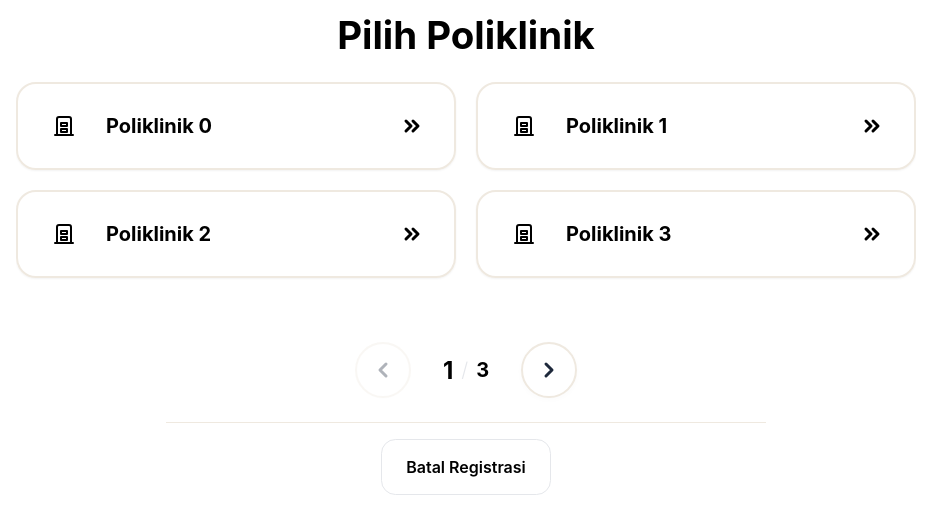
WalkinServiceStep › navigates to doctor list and paginates it
Note: Choose first polyclinic
Click the button with class "radio-card" showing "Poliklinik 0": click(159, 126) x1=16 y1=82 x2=456 y2=170
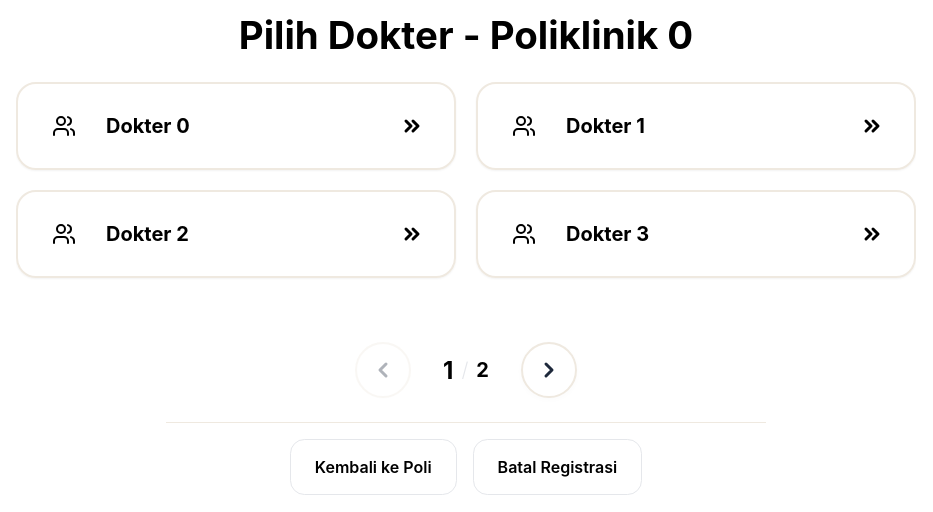
expect the text "Pilih Dokter - Poliklinik 0" is shown: met, box x1=239 y1=12 x2=693 y2=58
expect the button with class "radio-card" reads "Dokter 0": met, box x1=16 y1=82 x2=456 y2=170
expect the element with test id "kiosk-pagination" reads "1 / 2": met, box x1=355 y1=342 x2=577 y2=398
Note: Click next page
Click the button with class "next-btn": click(549, 370) x1=521 y1=342 x2=577 y2=398
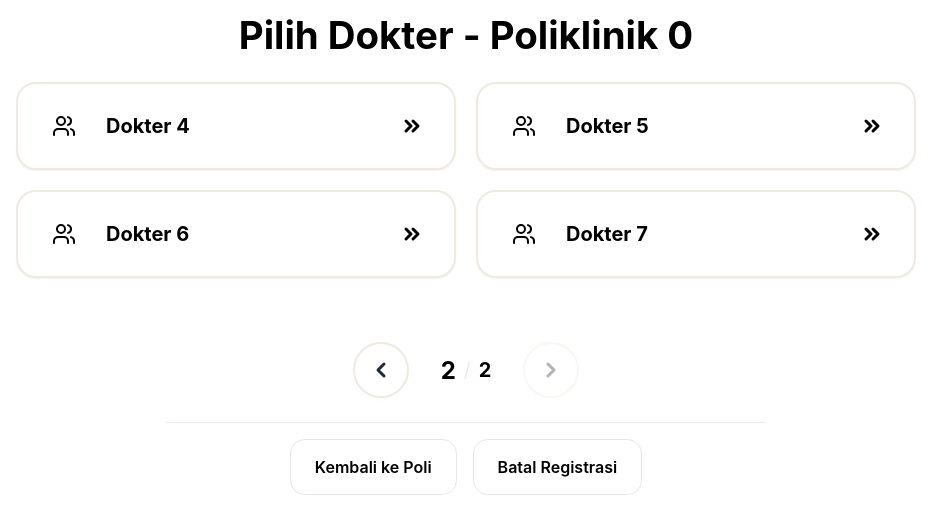
expect the number of buttons with class "radio-card" is 4: met, box x1=16 y1=82 x2=456 y2=170; x1=476 y1=82 x2=916 y2=170; x1=16 y1=190 x2=456 y2=278; x1=476 y1=190 x2=916 y2=278
expect the button with class "radio-card" reads "Dokter 4": met, box x1=16 y1=82 x2=456 y2=170
expect the element with test id "kiosk-pagination" reads "2 / 2": met, box x1=353 y1=342 x2=579 y2=398
Note: Click back to clinic
Click the button with class "secondary-btn" showing "Kembali ke Poli": click(373, 467) x1=290 y1=439 x2=457 y2=495
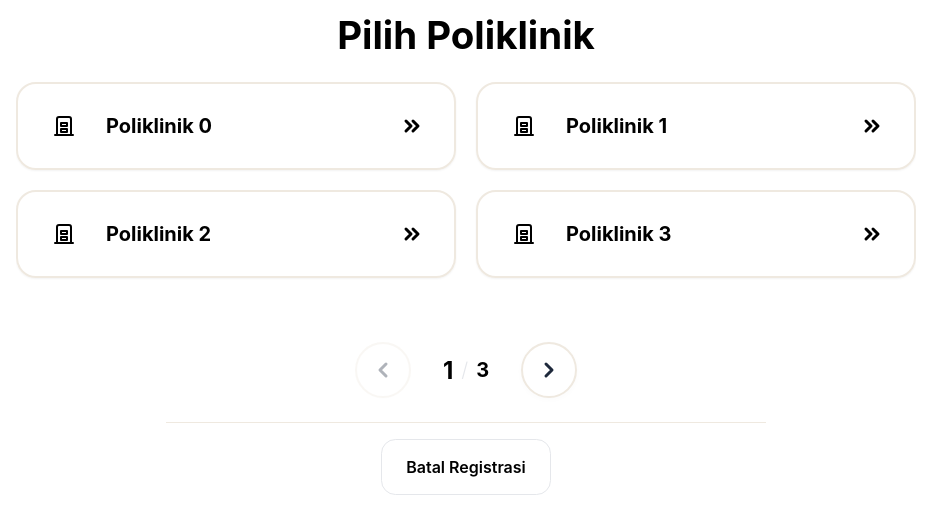
expect the text "Pilih Poliklinik" is shown: met, box x1=337 y1=12 x2=595 y2=58
expect the element with test id "kiosk-pagination" reads "1 / 3": met, box x1=355 y1=342 x2=577 y2=398
